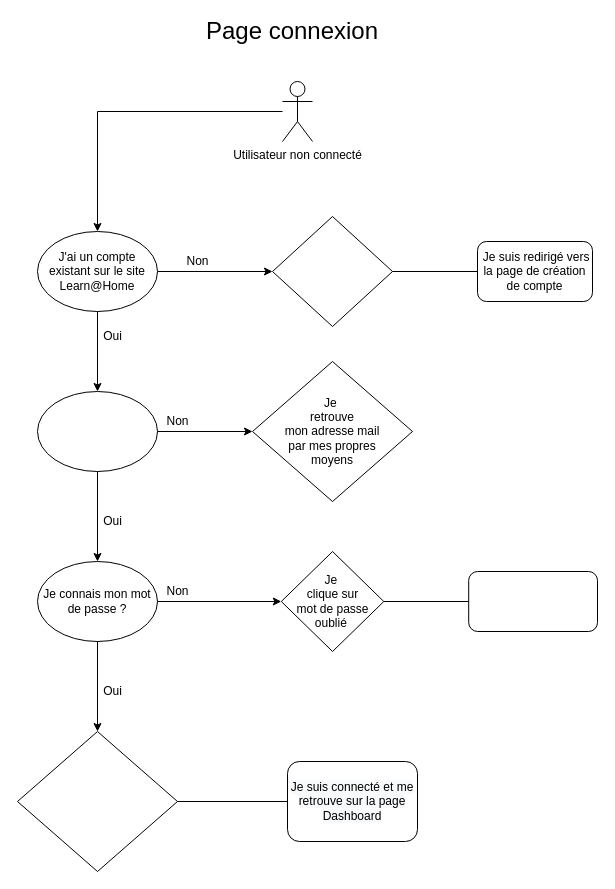
The diagram is 615 pixels wide and 889 high, and some of its shapes have lost their labels. The shapes that lost their labels are listed below. From the top down, each one's centre as x and y in pixels, then its label:
[332,271]: Je clique sur créer un compte
[97,431]: Je connais mon adresse e-mail ?
[533,601]: Je suis redirigé vers la page de réinitialisation de mot de passe
[97,801]: Je saisis mon mail et mon mot de passe, et clique sur le bouton "Se connecter"
